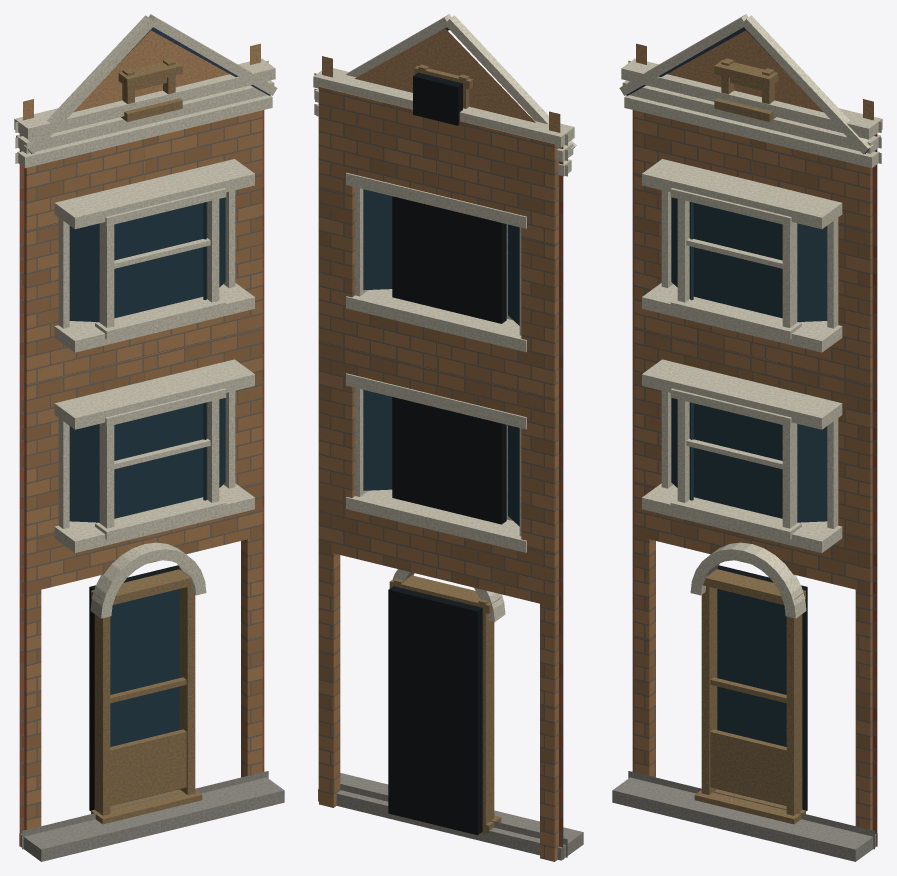
Rendered from VICT24_lod2.glb.
3 renders of one model, left to right at view 1: azimuth 30°, elevation 25°; view 2: azimuth 150°, elevation 25°; view 3: azimuth 330°, elevation 25°, orthographic.
Parts seen in each view (by area): view 1: VICT24_FRONT_LOD2; view 2: VICT24_FRONT_LOD2; view 3: VICT24_FRONT_LOD2.
Boxes of the visible parts, x1,y1,x2,y2 form: VICT24_FRONT_LOD2: (14, 14, 284, 861); VICT24_FRONT_LOD2: (313, 14, 583, 861); VICT24_FRONT_LOD2: (612, 14, 882, 861).
Bounding box in the file's own units: 3.44 × 10.46 × 0.765.
10 materials, 8 textured.
